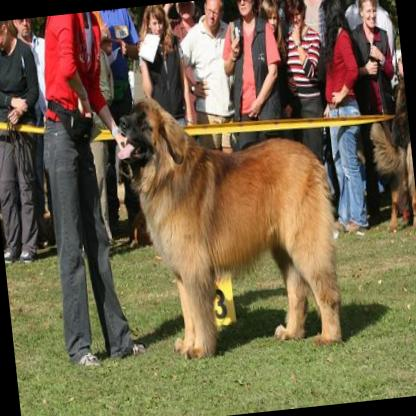Leonberg: (110, 79, 346, 365), (367, 116, 416, 234)
